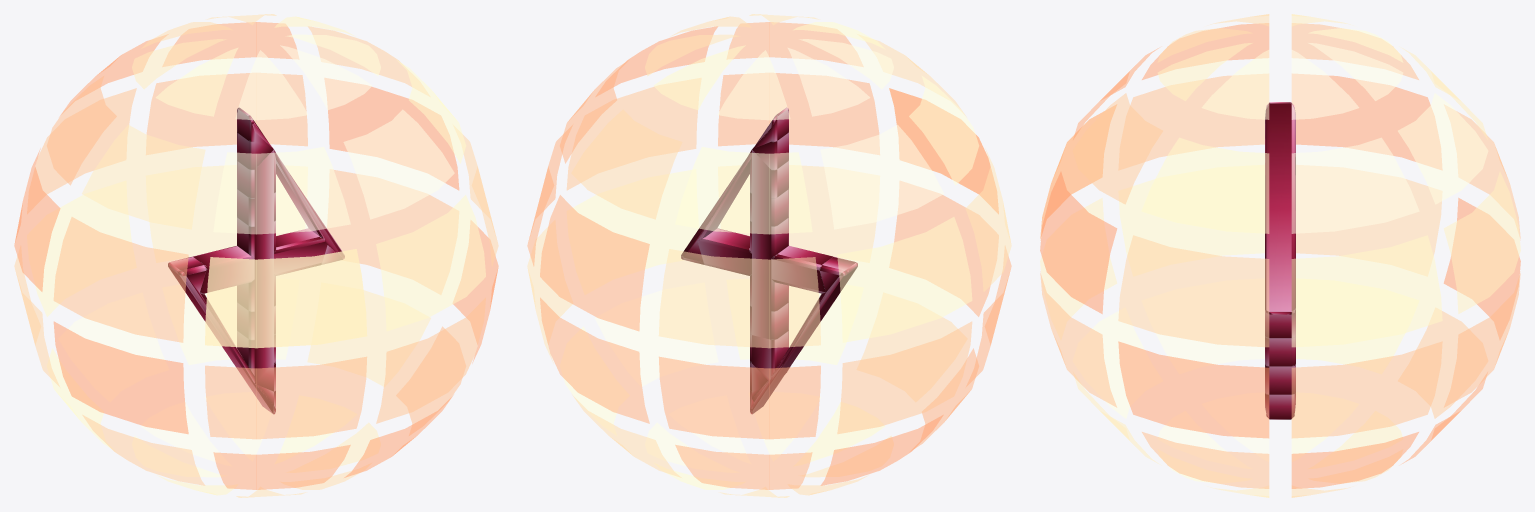
File: LearnCoSymb.gltf
The picture shows the model from 3 angles, left to right: view 1: azimuth 30°, elevation 25°; view 2: azimuth 150°, elevation 25°; view 3: azimuth 270°, elevation 25°; orthographic projection.
Visible parts, largest first — view 1: Sphere, Merged Objects 2; view 2: Sphere, Merged Objects 2; view 3: Sphere, Merged Objects 2.
Boxes of the visible parts, bbox=[...] form: Sphere: bbox=[14, 14, 498, 497]; Merged Objects 2: bbox=[168, 107, 344, 414]; Sphere: bbox=[527, 14, 1011, 497]; Merged Objects 2: bbox=[681, 107, 857, 414]; Sphere: bbox=[1040, 14, 1520, 497]; Merged Objects 2: bbox=[1265, 102, 1295, 419].
Size of the model in its own units: 0.1079 by 0.1079 by 0.1079.
2 materials, 1 textured.
